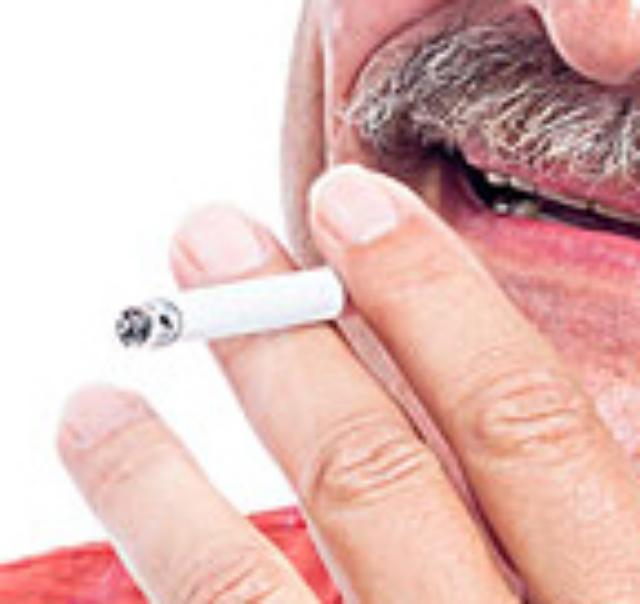Smoking: (116, 246, 414, 352)
